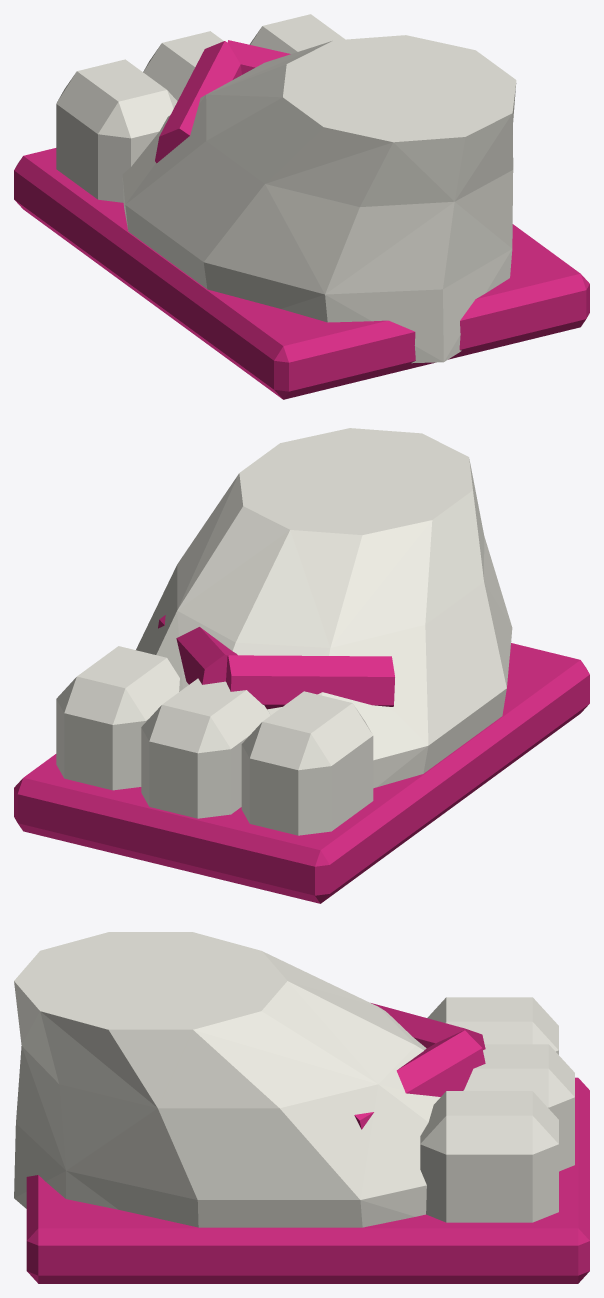
File: Ghost_Foot_L.glb
3 renders of one model, top to bottom at view 1: azimuth 30°, elevation 25°; view 2: azimuth 150°, elevation 25°; view 3: azimuth 270°, elevation 25°, orthographic. The views are drawn at different scales.
Visible parts, largest first — view 1: Left boot.015, Flip-flop sole.002, Separate toe.054, Open flip-flop strap segment.004, Separate toe.055, Separate toe.056, Open flip-flop strap segment.005; view 2: Left boot.015, Flip-flop sole.002, Separate toe.054, Separate toe.055, Separate toe.056, Open flip-flop strap segment.004, Open flip-flop strap segment.005; view 3: Left boot.015, Flip-flop sole.002, Separate toe.056, Separate toe.055, Separate toe.054, Open flip-flop strap segment.005, Open flip-flop strap segment.004.
Boxes of the visible parts, x1=… form: Left boot.015: x1=122, y1=35, x2=516, y2=363; Flip-flop sole.002: x1=14, y1=148, x2=589, y2=399; Separate toe.054: x1=56, y1=59, x2=177, y2=202; Open flip-flop strap segment.004: x1=155, y1=41, x2=241, y2=163; Separate toe.055: x1=143, y1=31, x2=223, y2=100; Separate toe.056: x1=249, y1=14, x2=345, y2=53; Open flip-flop strap segment.005: x1=227, y1=40, x2=290, y2=74; Left boot.015: x1=136, y1=428, x2=512, y2=788; Flip-flop sole.002: x1=14, y1=643, x2=589, y2=903; Separate toe.054: x1=241, y1=691, x2=373, y2=835; Separate toe.055: x1=141, y1=678, x2=270, y2=818; Separate toe.056: x1=56, y1=646, x2=179, y2=790; Open flip-flop strap segment.004: x1=226, y1=655, x2=394, y2=709; Open flip-flop strap segment.005: x1=158, y1=615, x2=237, y2=684; Left boot.015: x1=14, y1=932, x2=440, y2=1227; Flip-flop sole.002: x1=26, y1=1077, x2=589, y2=1283; Separate toe.056: x1=420, y1=1091, x2=558, y2=1222; Separate toe.055: x1=463, y1=1044, x2=574, y2=1171; Separate toe.054: x1=427, y1=997, x2=558, y2=1054; Open flip-flop strap segment.005: x1=354, y1=1030, x2=485, y2=1129; Open flip-flop strap segment.004: x1=371, y1=1003, x2=485, y2=1049.
Size of the model in its own units: 0.23 by 0.16 by 0.35.
